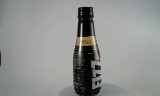appyfizz: (66, 5, 96, 95)
